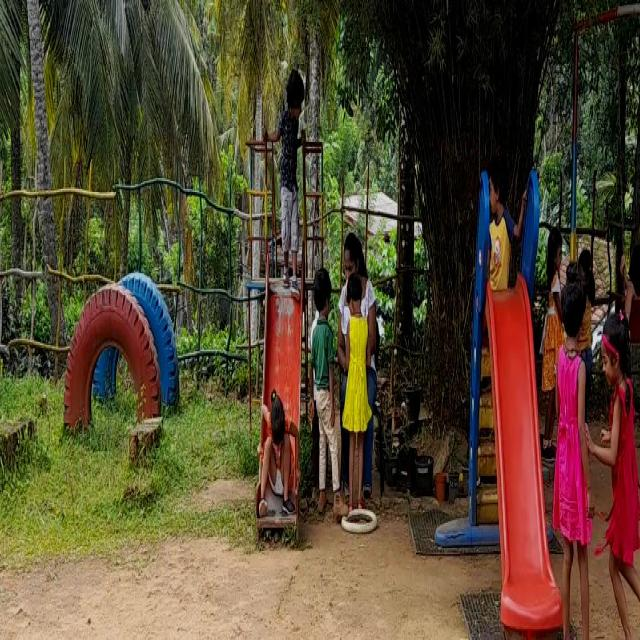adult: (336, 233, 377, 505)
child: (586, 312, 640, 640), (554, 259, 594, 640), (263, 72, 306, 304), (309, 267, 347, 521), (342, 272, 372, 522), (541, 228, 574, 452), (486, 166, 533, 293), (260, 388, 300, 524)
